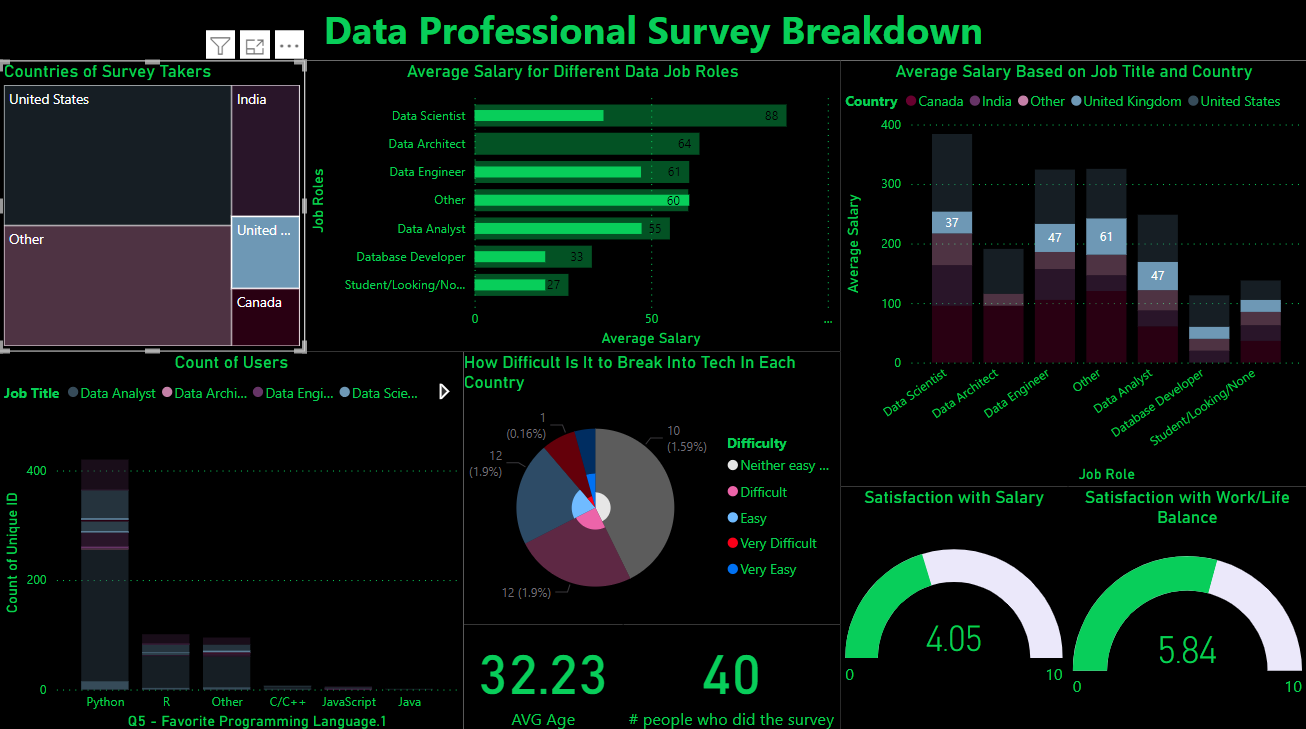

What the dashboard file says about the page in this screenshot:
{"tool":"powerbi","page":{"name":"Page 1","canvas":[1280,720],"ordinal":0},"visuals":[{"type":"textbox","box":[0,0,1279.9,61.1],"z":0},{"type":"card","fields":{"Values":["Count(Data Professional Survey.Unique ID)"]},"box":[610,612.9,212.9,107.1],"z":1000},{"type":"card","fields":{"Values":["Avg(Data Professional Survey.Q10 - Current Age)"]},"box":[454.3,612.9,155.7,107.1],"z":2000},{"type":"barChart","title":"Average Salary for Different Data Job Roles","fields":{"Category":["Data Professional Survey.Q1 - Which Title Best Fits your Current Role?.1"],"Y":["Avg(Data Professional Survey.AVG Salary)"]},"box":[299.5,61.1,523.2,284.8],"z":2001},{"type":"columnChart","title":"Count of Users","fields":{"Category":["Data Professional Survey.Q5 - Favorite Programming Language.1"],"Y":["CountNonNull(Data Professional Survey.Unique ID)"],"Series":["Data Professional Survey.Q1 - Which Title Best Fits your Current Role?.1"]},"box":[0,345.9,454.7,374.1],"z":2002},{"type":"columnChart","title":"Average Salary Based on Job Title and Country","fields":{"Category":["Data Professional Survey.Q1 - Which Title Best Fits your Current Role?.1"],"Y":["Avg(Data Professional Survey.AVG Salary)"],"Series":["Data Professional Survey.Q11 - Which Country do you live in?.1"]},"box":[822.9,61.4,457.1,417.1],"z":2003},{"type":"gauge","title":"Satisfaction with Work/Life Balance","fields":{"Y":["Avg(Data Professional Survey.Q6 - How Happy are you in your Current Position with the following? (Work/Life Balance))"],"MinValue":["Min(Data Professional Survey.Q6 - How Happy are you in your Current Position with the following? (Work/Life Balance))1"],"MaxValue":["Max(Data Professional Survey.Q6 - How Happy are you in your Current Position with the following? (Work/Life Balance))2"]},"box":[1045.7,478.6,234.3,241.4],"z":2004},{"type":"gauge","title":"Satisfaction with Salary","fields":{"Y":["Avg(Data Professional Survey.Q6 - How Happy are you in your Current Position with the following? (Salary))"],"MinValue":["Min(Data Professional Survey.Q6 - How Happy are you in your Current Position with the following? (Salary))"],"MaxValue":["Max(Data Professional Survey.Q6 - How Happy are you in your Current Position with the following? (Salary))"]},"box":[822.9,478.6,222.9,241.4],"z":2005},{"type":"treemap","title":"Countries of Survey Takers","fields":{"Group":["Data Professional Survey.Q11 - Which Country do you live in?.1"],"Values":["CountNonNull(Data Professional Survey.Q11 - Which Country do you live in?.1)"]},"box":[0,61.6,299.2,284.5],"z":2007},{"type":"pieChart","title":"How Difficult Is It to Break Into Tech In Each Country","fields":{"Category":["Data Professional Survey.Q7 - How difficult was it for you to break into Data?"],"Y":["CountNonNull(Data Professional Survey.Q11 - Which Country do you live in?.1)"]},"box":[454.7,345.9,367.9,266.5],"z":2008}]}

Visuals, with their boxes on the page's 1280x720 design canvas (x1, y1, x2, y2). These are canvas units, not pixel positions in the 1306x729 screenshot, which may show the page scaled, cropped or inside an application window:
textbox: <region>0, 0, 1280, 61</region>
card - Count(Data Professional Survey.Unique ID): <region>610, 613, 823, 720</region>
card - Avg(Data Professional Survey.Q10 - Current Age): <region>454, 613, 610, 720</region>
"Average Salary for Different Data Job Roles" barChart: <region>300, 61, 823, 346</region>
"Count of Users" columnChart: <region>0, 346, 455, 720</region>
"Average Salary Based on Job Title and Country" columnChart: <region>823, 61, 1280, 478</region>
"Satisfaction with Work/Life Balance" gauge: <region>1046, 479, 1280, 720</region>
"Satisfaction with Salary" gauge: <region>823, 479, 1046, 720</region>
"Countries of Survey Takers" treemap: <region>0, 62, 299, 346</region>
"How Difficult Is It to Break Into Tech In Each Country" pieChart: <region>455, 346, 823, 612</region>
